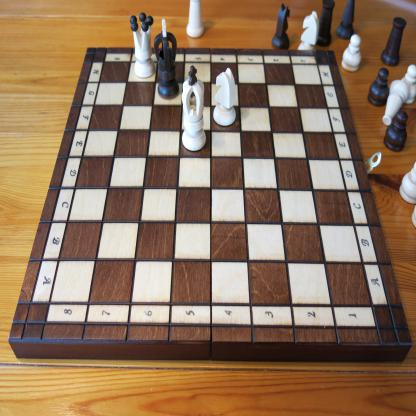black-bishop: (336, 0, 356, 40)
black-king: (154, 18, 180, 100)
black-knight: (271, 2, 290, 51)
black-pawn: (383, 110, 408, 152), (367, 67, 390, 107)
black-rook: (380, 16, 407, 67), (316, 0, 336, 48)
white-bishop: (382, 79, 410, 127)
white-king: (182, 65, 206, 151)
white-knight: (213, 67, 236, 127), (297, 10, 320, 51)
white-pawn: (398, 161, 416, 205), (341, 34, 361, 73), (400, 64, 415, 106)
white-queen: (129, 12, 156, 79)
white-rook: (186, 0, 205, 38)
